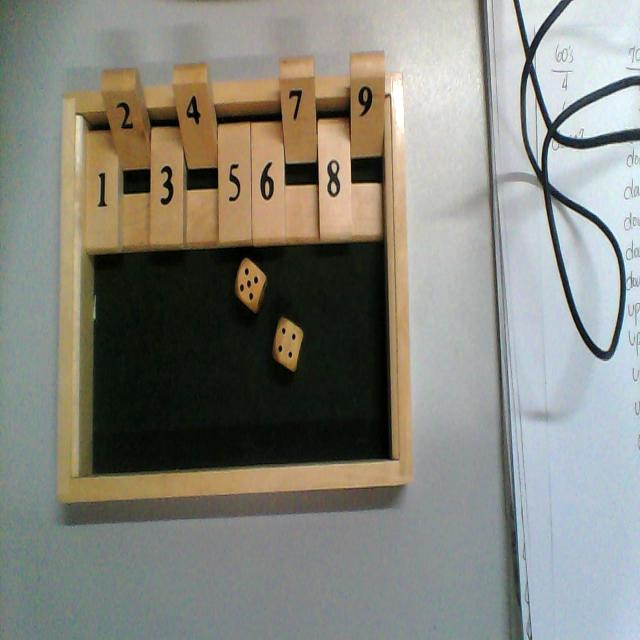4: (272, 315, 304, 374)
5: (230, 253, 268, 317)
O2: (102, 69, 153, 253)
O4: (172, 65, 220, 246)
O7: (280, 58, 321, 242)
O9: (352, 53, 385, 238)
